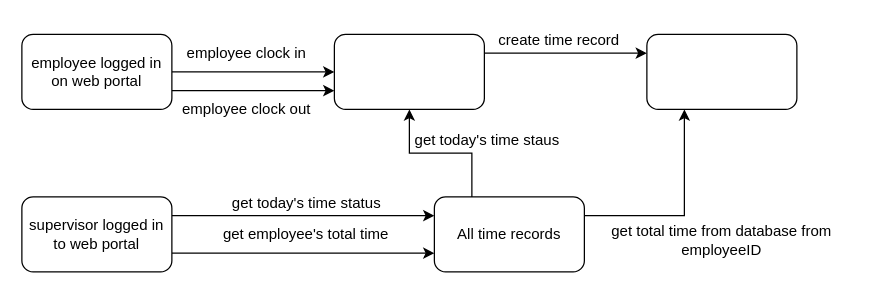
The diagram is 869 pixels wide and 294 high, and some of its shapes have lost their labels. The centre of each missing label's shape, as x and y in pixels:
"time record entered to the database" belongs at point 721,71.
"today's time status" belongs at point 408,71.
